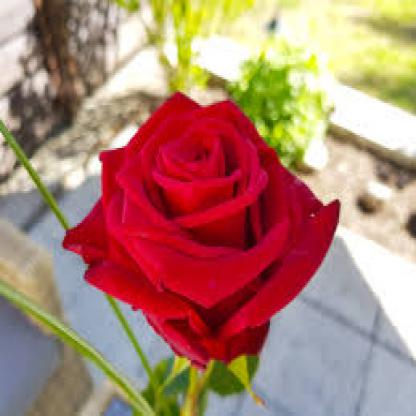Rose-Mawar: (60, 89, 340, 370)
